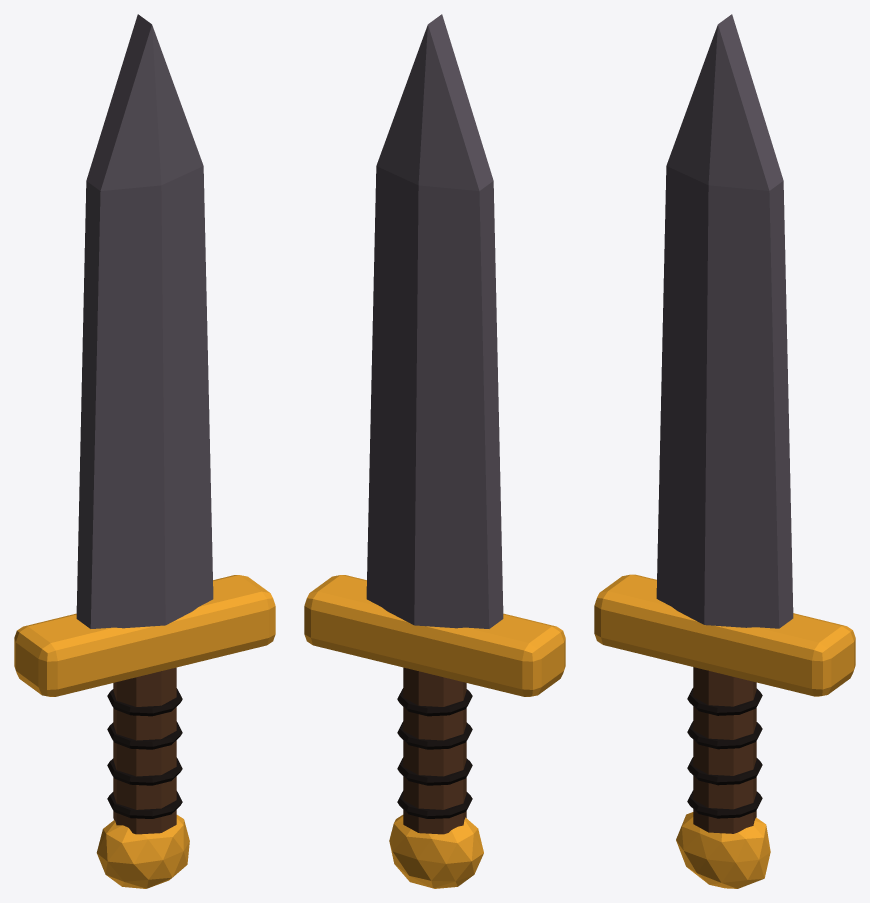
Rendered from evil_sword.glb.
3 renders of one model, left to right at view 1: azimuth 30°, elevation 25°; view 2: azimuth 150°, elevation 25°; view 3: azimuth 330°, elevation 25°, orthographic.
Visible parts, largest first — view 1: Sword broad faceted blade, Sword gold guard, Sword leather grip, Sword pommel, Sword grip wrap, Sword grip wrap.001, Sword grip wrap.002, Sword grip wrap.003; view 2: Sword broad faceted blade, Sword gold guard, Sword leather grip, Sword pommel, Sword grip wrap, Sword grip wrap.001, Sword grip wrap.002, Sword grip wrap.003; view 3: Sword broad faceted blade, Sword gold guard, Sword leather grip, Sword pommel, Sword grip wrap.003, Sword grip wrap.001, Sword grip wrap.002, Sword grip wrap.
Part boxes in pixels (x1,y1,x2,y2): Sword broad faceted blade: [76, 14, 213, 628]; Sword gold guard: [14, 575, 275, 696]; Sword leather grip: [113, 667, 176, 834]; Sword pommel: [96, 815, 189, 888]; Sword grip wrap: [107, 791, 182, 818]; Sword grip wrap.001: [107, 757, 182, 785]; Sword grip wrap.002: [107, 721, 182, 749]; Sword grip wrap.003: [107, 688, 182, 716]; Sword broad faceted blade: [366, 14, 503, 628]; Sword gold guard: [304, 575, 565, 696]; Sword leather grip: [403, 667, 466, 834]; Sword pommel: [389, 815, 483, 888]; Sword grip wrap: [397, 791, 472, 818]; Sword grip wrap.001: [397, 757, 472, 785]; Sword grip wrap.002: [397, 721, 472, 749]; Sword grip wrap.003: [397, 688, 472, 716]; Sword broad faceted blade: [656, 14, 793, 628]; Sword gold guard: [594, 574, 855, 696]; Sword leather grip: [693, 667, 756, 833]; Sword pommel: [676, 812, 770, 888]; Sword grip wrap.003: [687, 688, 762, 715]; Sword grip wrap.001: [687, 757, 762, 785]; Sword grip wrap.002: [687, 721, 762, 749]; Sword grip wrap: [687, 790, 762, 818].
Size of the model in its own units: 0.48 by 1.69 by 0.146.
